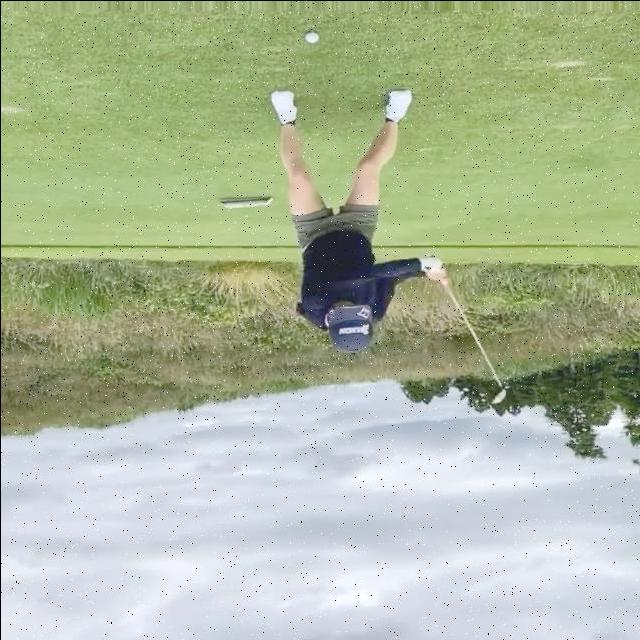golf ball: (305, 31, 318, 42)
golf club-handle: (445, 283, 506, 403)
golf club-head: (491, 388, 506, 403)
